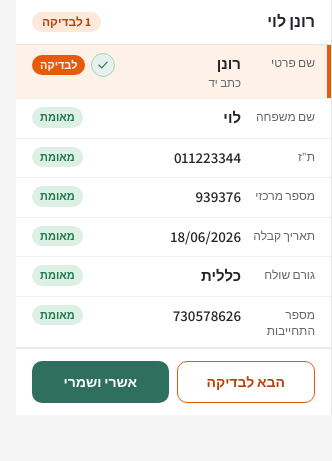
Test case: FieldsPanel: saving clears the orange › saving the SAME value counts as confirming it: the flag goes away
// the bug reported from real use: re-saving a correct but flagged value left it orange
Click the text "רונן" at (229, 64), box [217,54,241,73]
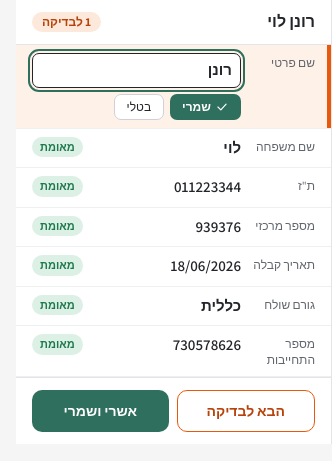
Click the button "שמרי" at (206, 106), box [170,94,241,120]
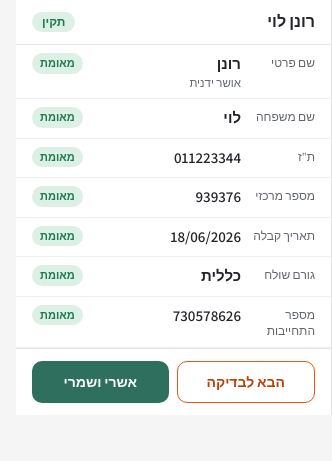
Result: the text "אושר ידנית" is shown at [189,74,241,90]
